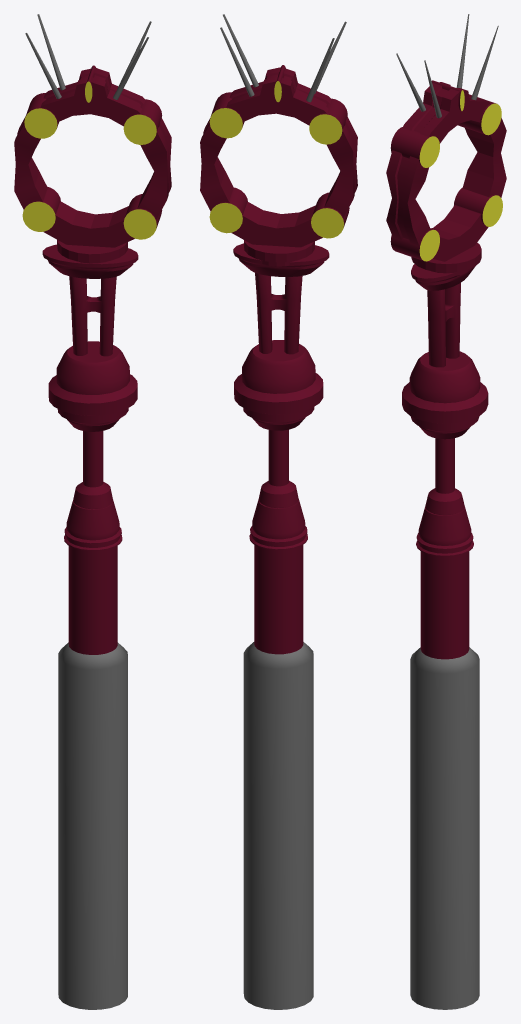
Rendered from RailStand.fbx.
3 views of the same model, side by side, from view 1: azimuth 30°, elevation 25°; view 2: azimuth 210°, elevation 25°; view 3: azimuth 270°, elevation 25° (orthographic).
Visible parts, largest first — view 1: pCylinder1, polySurface4, pCube1, pasted__polySurface3 (×2), pCylinder2, polySurface3, pasted__pasted__polySurface3, pCylinder3; view 2: pCylinder1, polySurface4, pCube1, pasted__polySurface3 (×2), pCylinder2, pCylinder3, polySurface3, pasted__pasted__polySurface3; view 3: pCylinder1, polySurface4, pCube1, pasted__polySurface3 (×2), polySurface3, pasted__pasted__polySurface3, pCylinder3, pCylinder2.
Boxes of the visible parts, x1=… form: pCylinder1: x1=48, y1=341, x2=137, y2=1009; polySurface4: x1=14, y1=67, x2=171, y2=247; pCube1: x1=69, y1=276, x2=116, y2=356; pasted__polySurface3 (×2): x1=24, y1=93, x2=162, y2=239; pCylinder2: x1=42, y1=244, x2=138, y2=278; polySurface3: x1=123, y1=99, x2=162, y2=144; pasted__pasted__polySurface3: x1=22, y1=187, x2=60, y2=231; pCylinder3: x1=57, y1=240, x2=127, y2=263; pCylinder1: x1=234, y1=340, x2=323, y2=1009; polySurface4: x1=200, y1=67, x2=357, y2=247; pCube1: x1=255, y1=273, x2=302, y2=354; pasted__polySurface3 (×2): x1=209, y1=98, x2=347, y2=233; pCylinder2: x1=233, y1=243, x2=329, y2=276; pCylinder3: x1=244, y1=240, x2=314, y2=266; polySurface3: x1=209, y1=92, x2=244, y2=138; pasted__pasted__polySurface3: x1=311, y1=192, x2=349, y2=238; pCylinder1: x1=402, y1=351, x2=488, y2=1009; polySurface4: x1=386, y1=82, x2=506, y2=261; pCube1: x1=427, y1=283, x2=460, y2=367; pasted__polySurface3 (×2): x1=390, y1=94, x2=501, y2=261; polySurface3: x1=390, y1=127, x2=439, y2=167; pasted__pasted__polySurface3: x1=454, y1=187, x2=502, y2=226; pCylinder3: x1=411, y1=242, x2=481, y2=275; pCylinder2: x1=411, y1=264, x2=475, y2=290.
Size of the model in its own units: 1.28 by 9.62 by 1.1.
